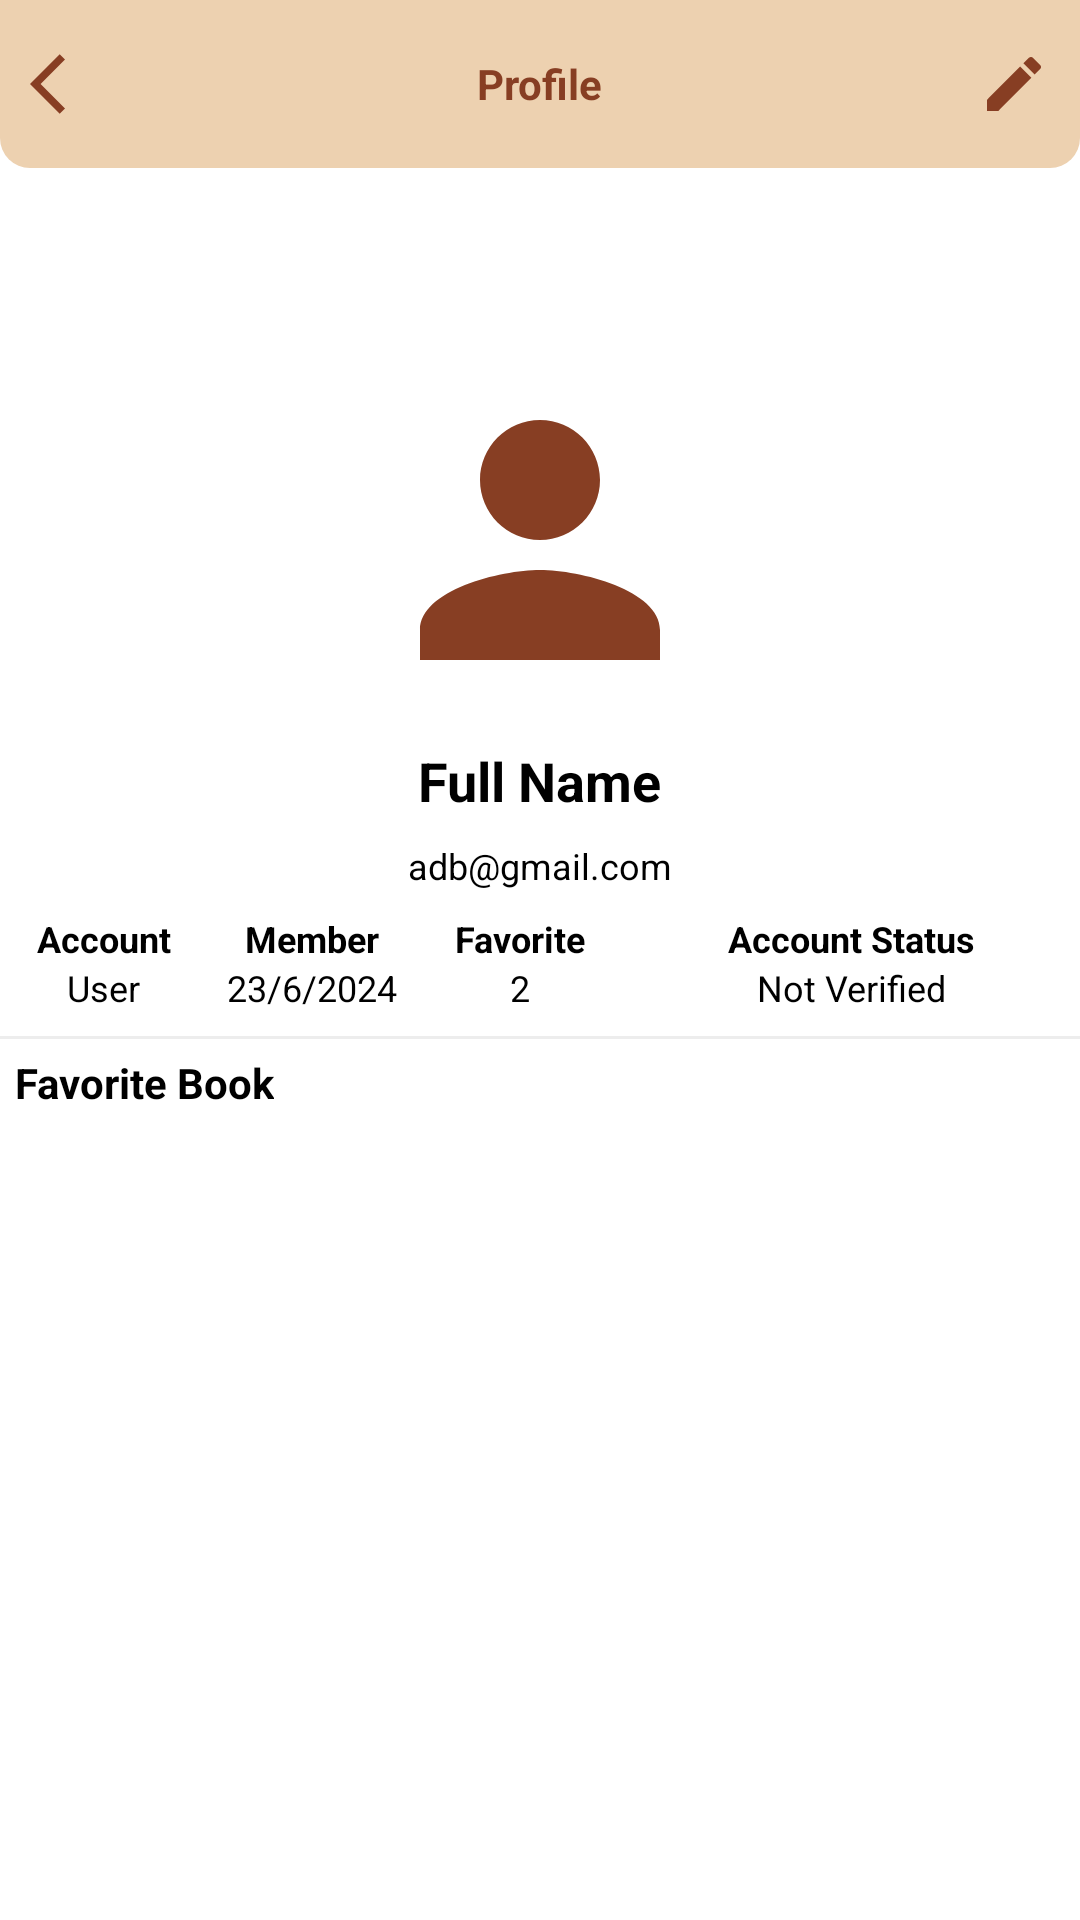

Screen size 1080x1920. Icon name, then its center in pixels as [x,y]:
arrow back: [47,84]
edit: [1014,84]
person: [540,540]
